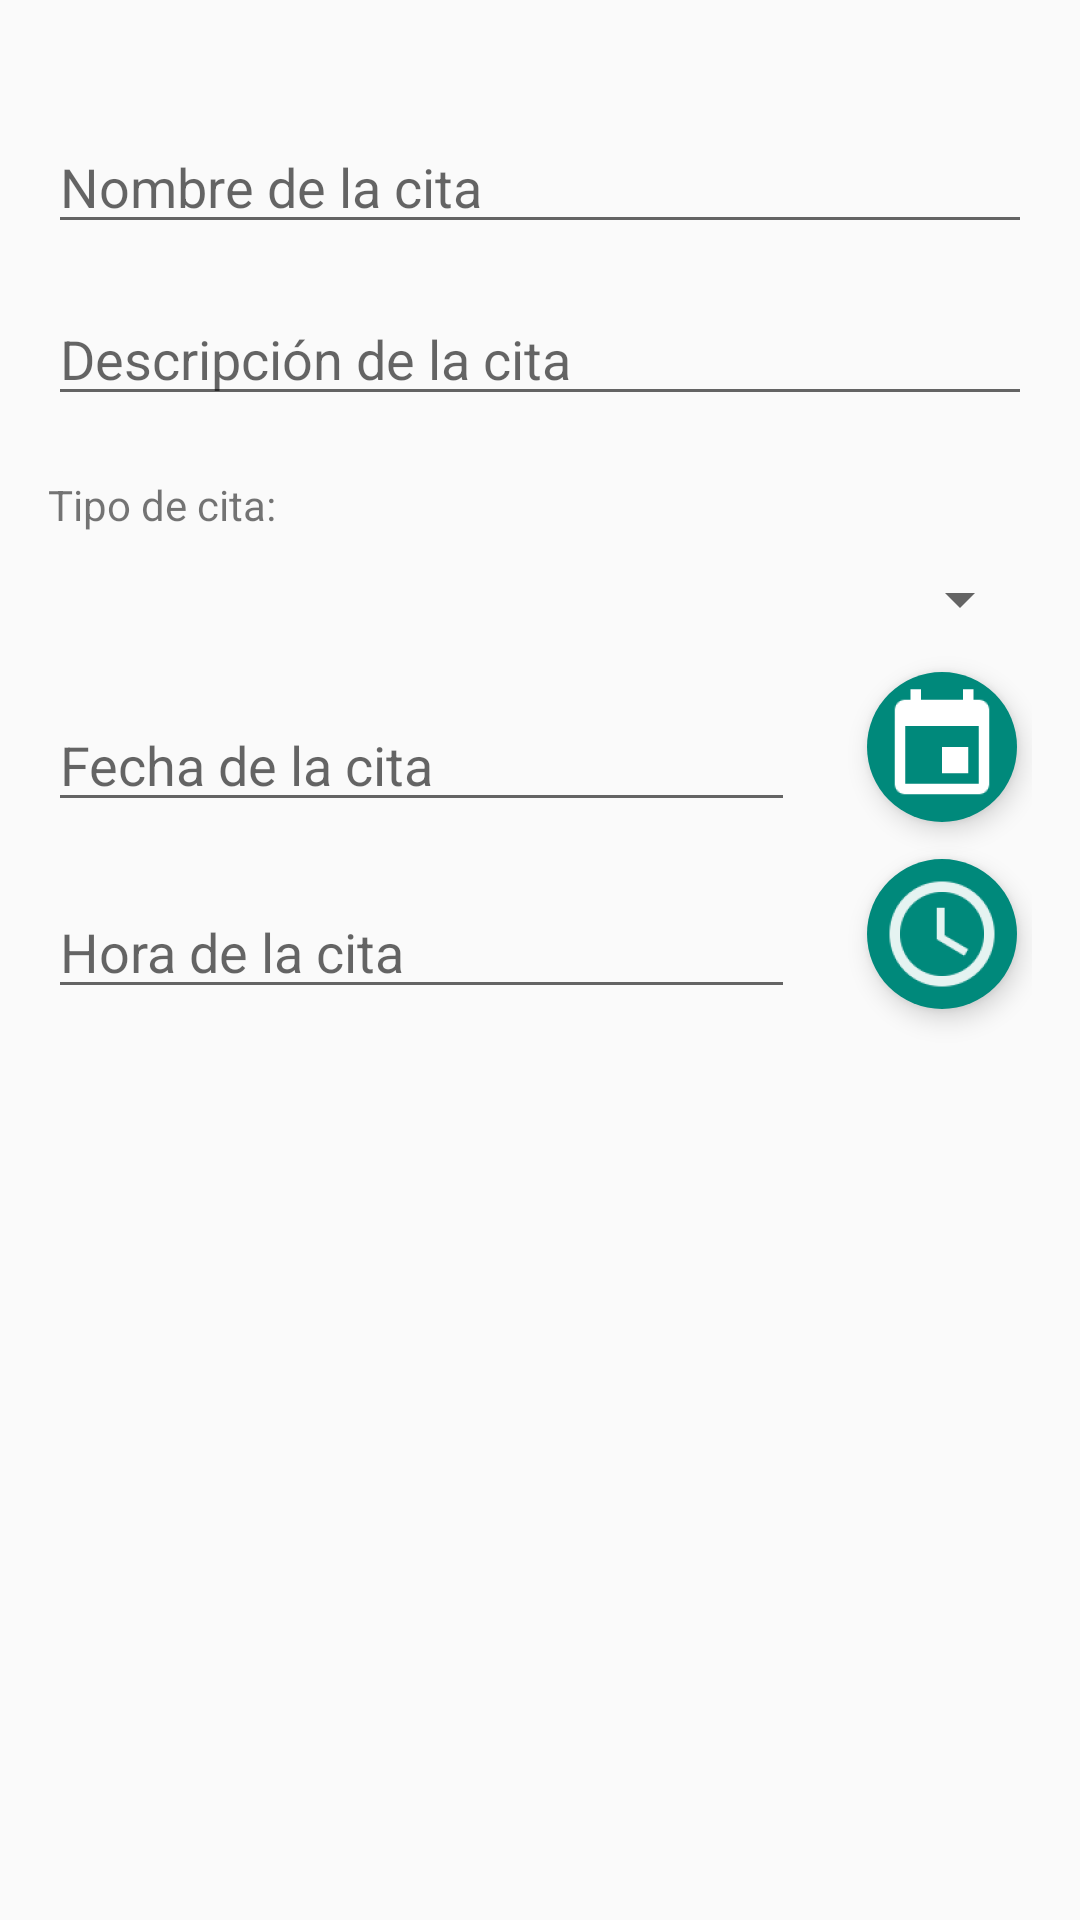

Point at icon controls on the screen. Image size 1080px×1920px, points as [x,y].
acces time: [942,934]
calendar: [942,747]
